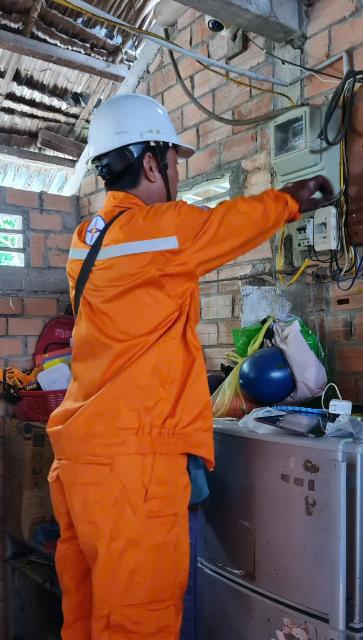gloves: (269, 171, 349, 218)
helmet: (67, 80, 209, 171)
